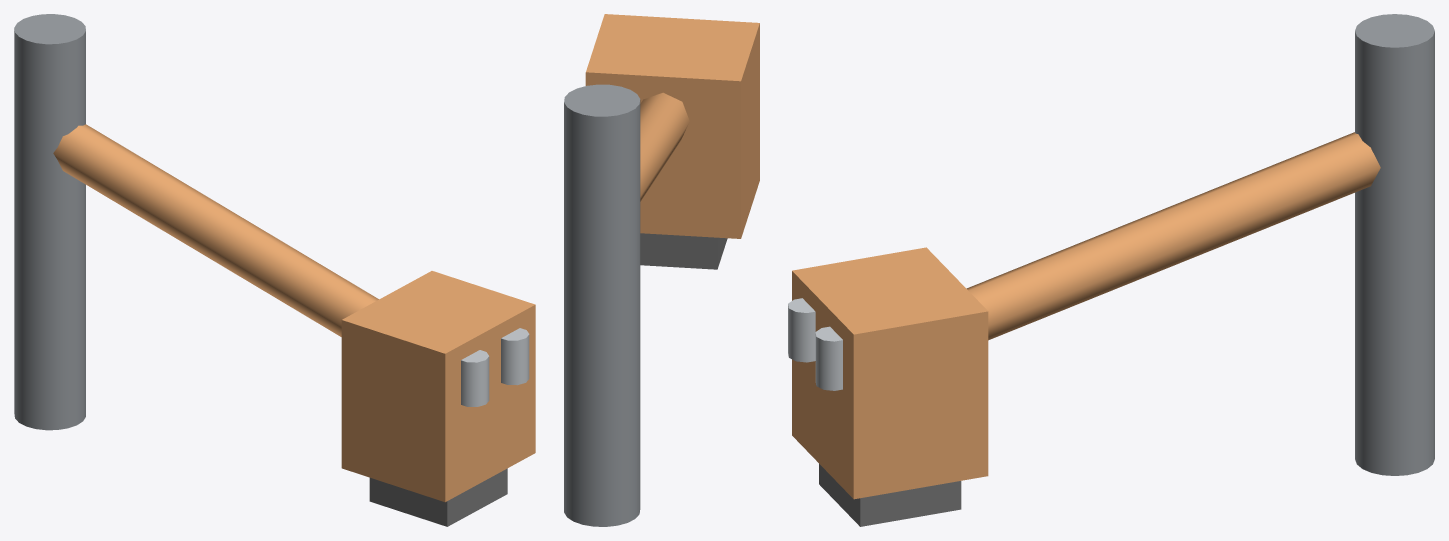
The model's file is roughneck.glb.
The picture shows the model from 3 angles, left to right: view 1: azimuth 30°, elevation 25°; view 2: azimuth 150°, elevation 25°; view 3: azimuth 270°, elevation 25°; orthographic projection. The views are drawn at different scales.
Bounding box in the file's own units: 1.92 × 2.6 × 3.56.
